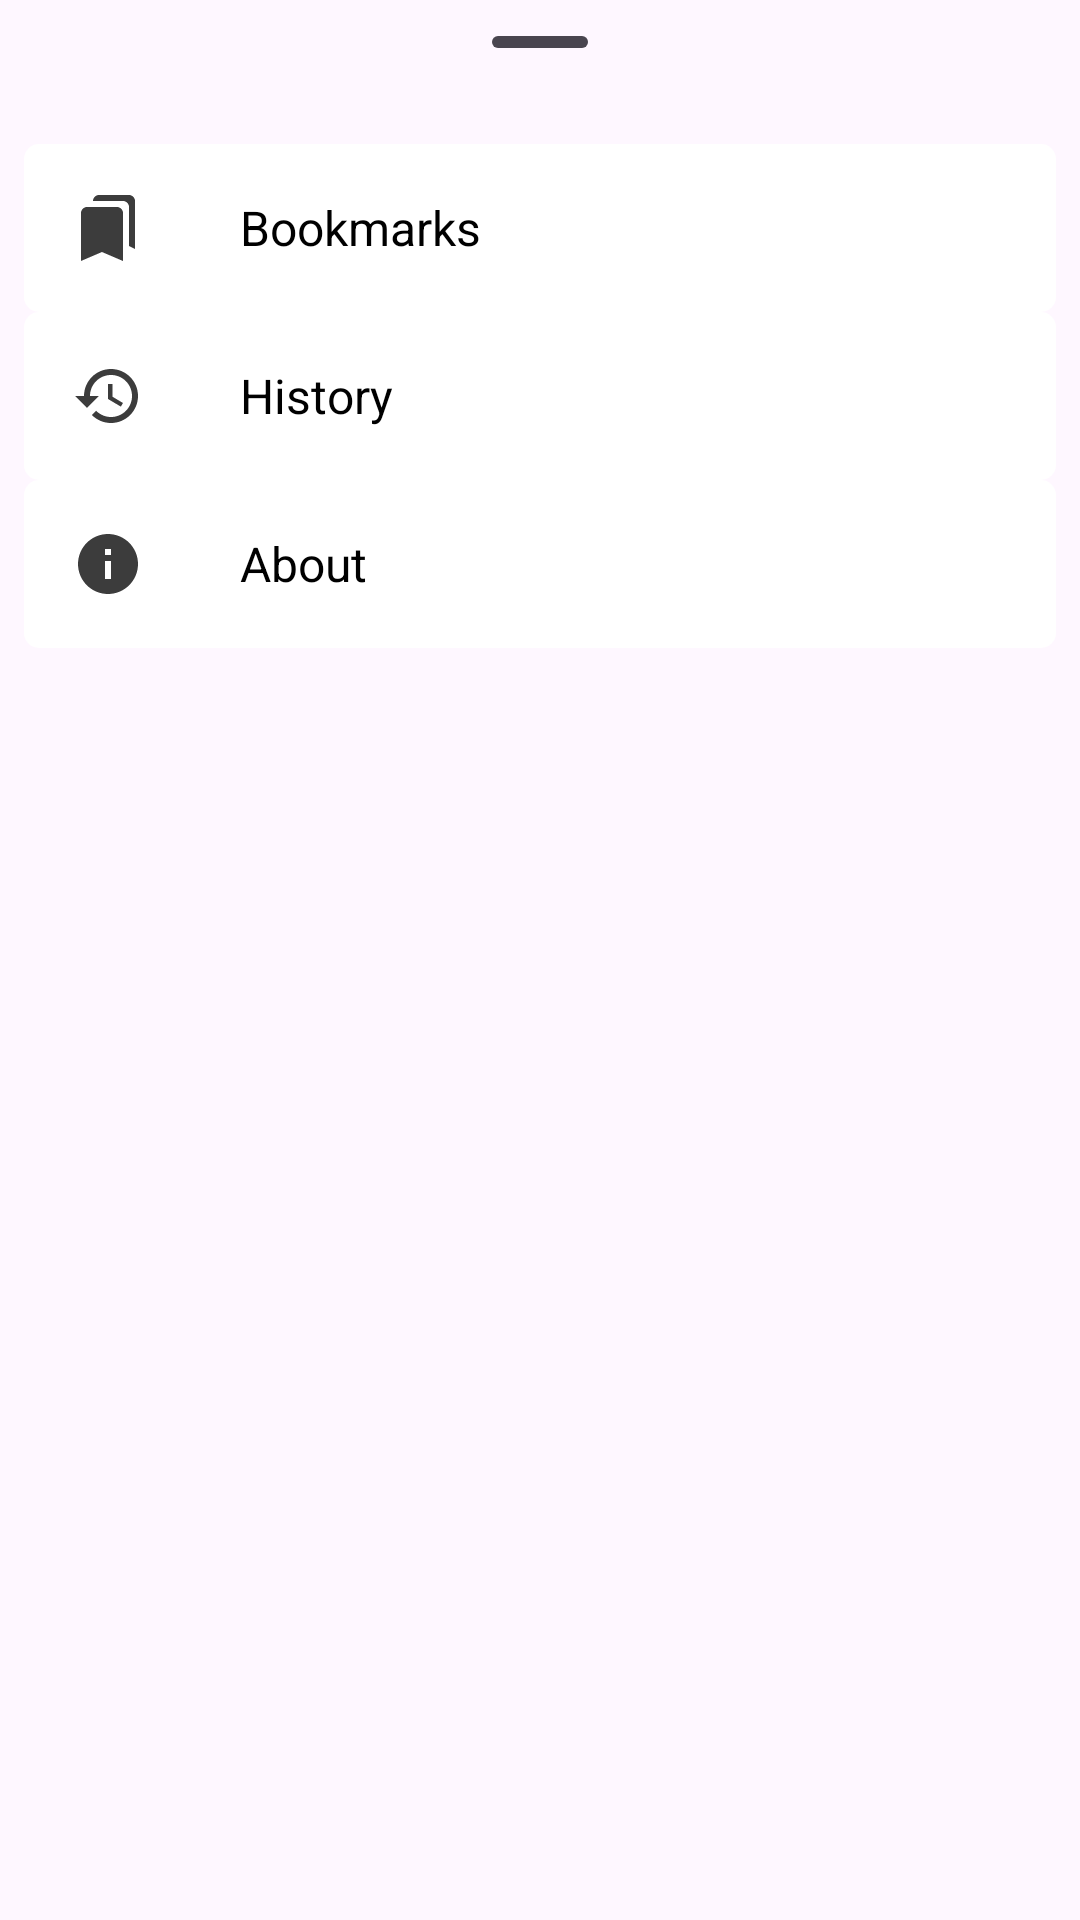

Named icons in this screenshot (1080x1920) and their centers, (x,y):
info: (108,564)
